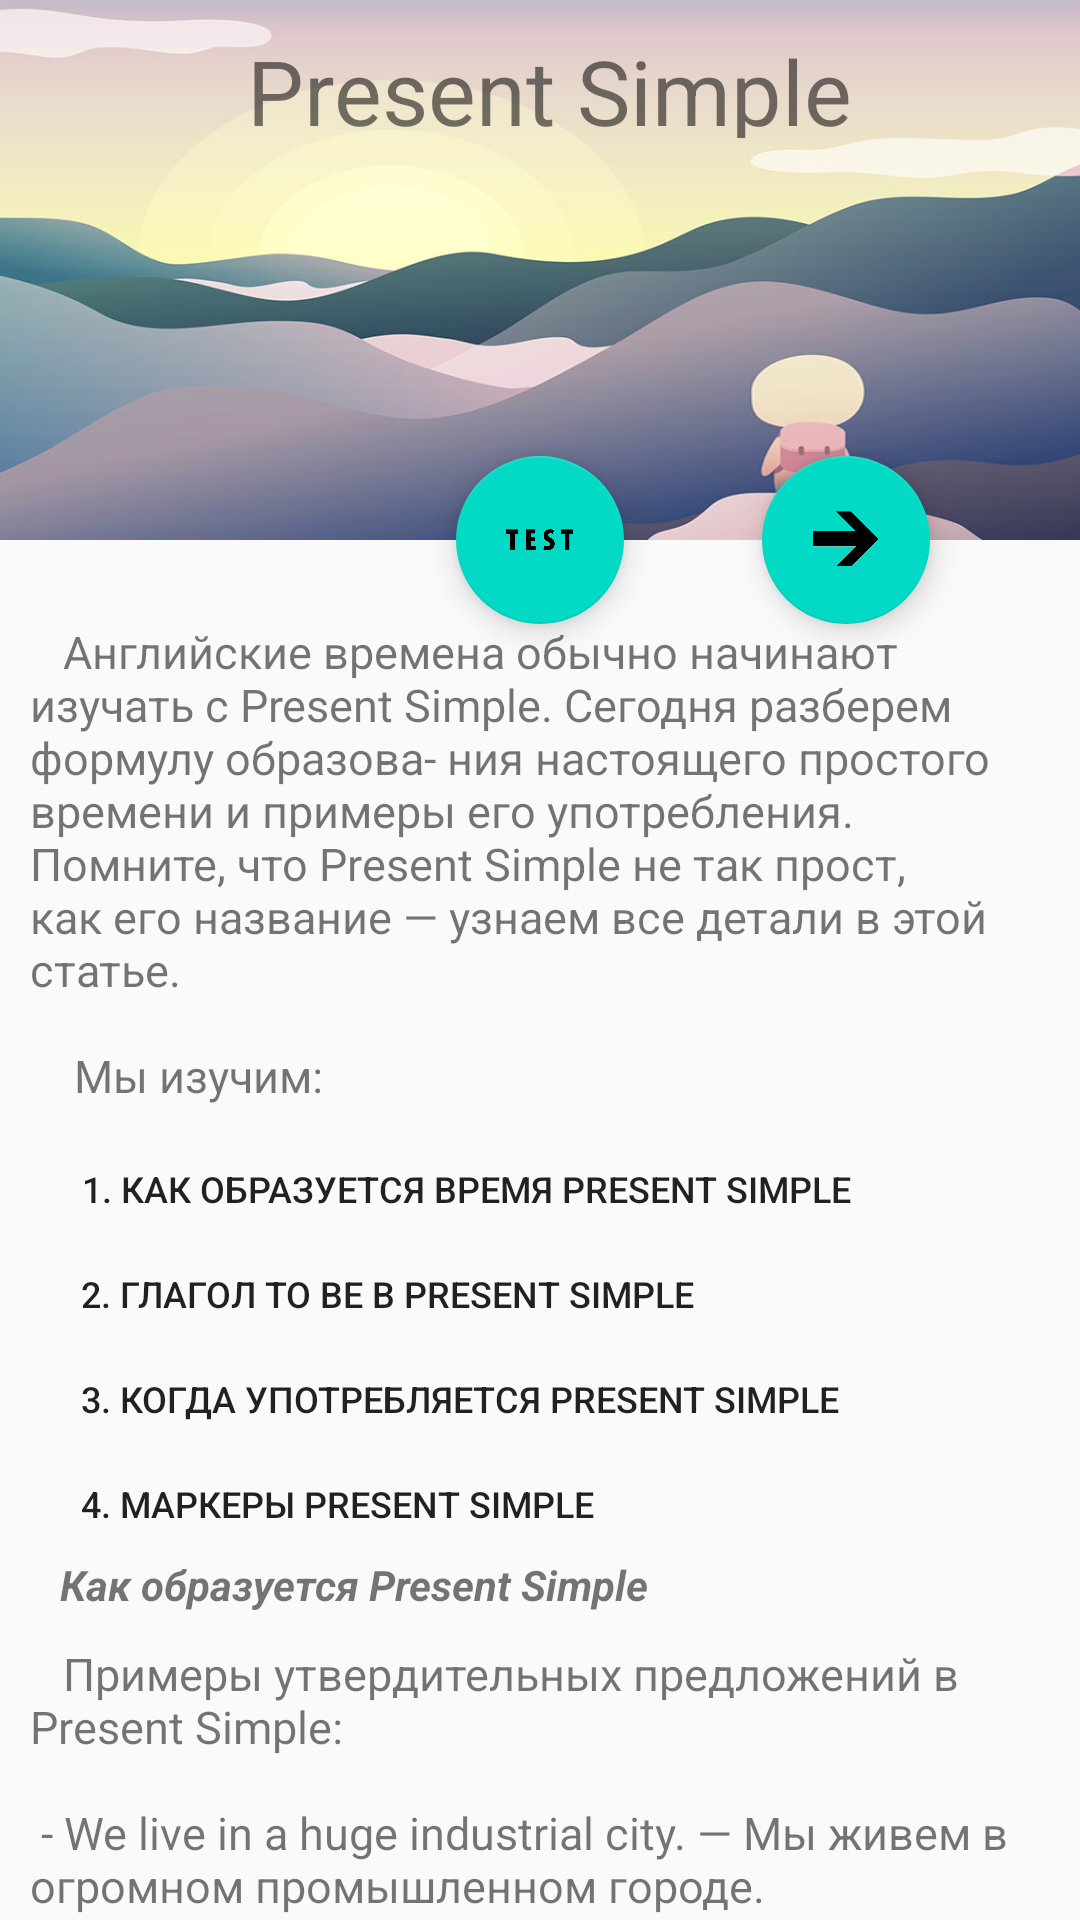

Icon click points for this 1080 × 1920 phone screenshot, format point (x, y):
arrowright: point (846, 540)
